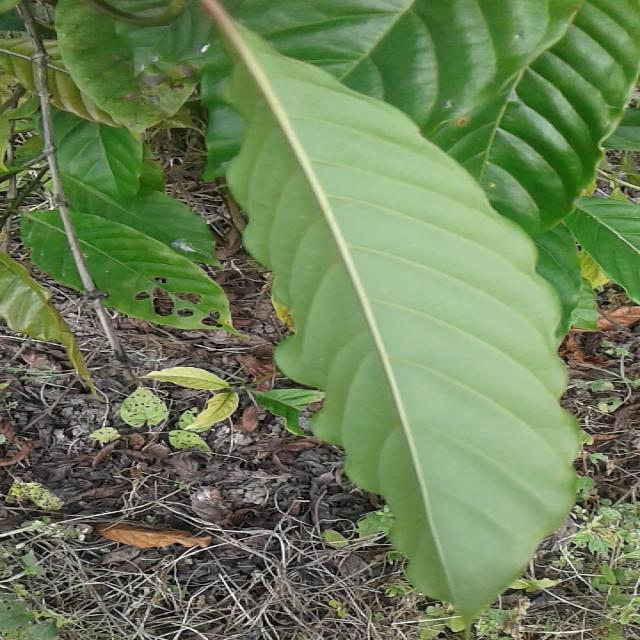Sanas: (197, 0, 588, 624)
